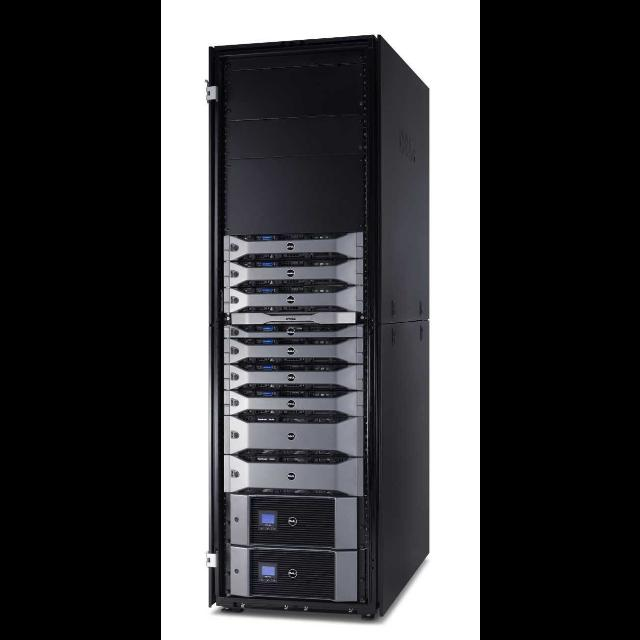Server: (195, 23, 441, 631)
